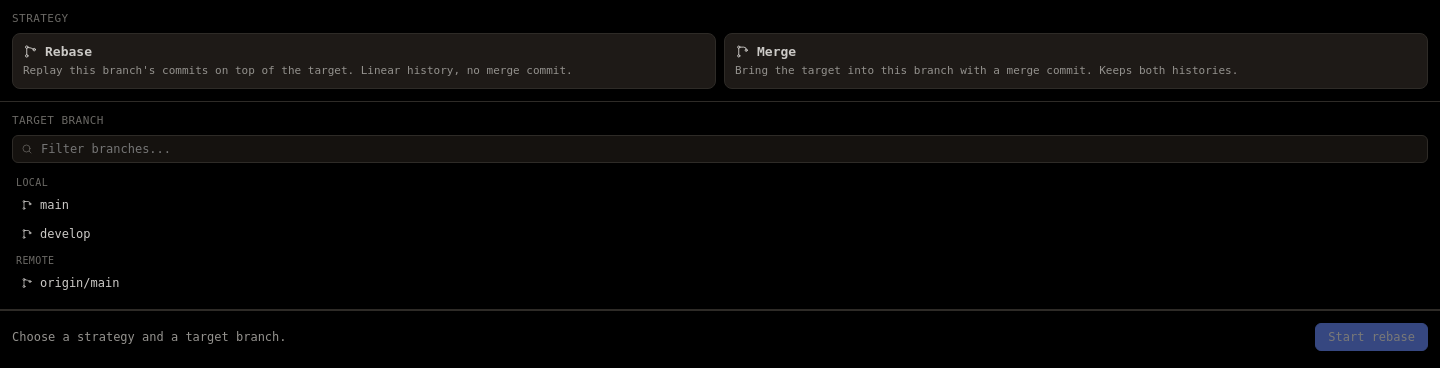
Test: MergeRebaseView › running the operation › clears the choice once the operation succeeded
Click the button with class "mr-card" that starts with "Rebase".
click(364, 61)  # box [12, 33, 716, 89]
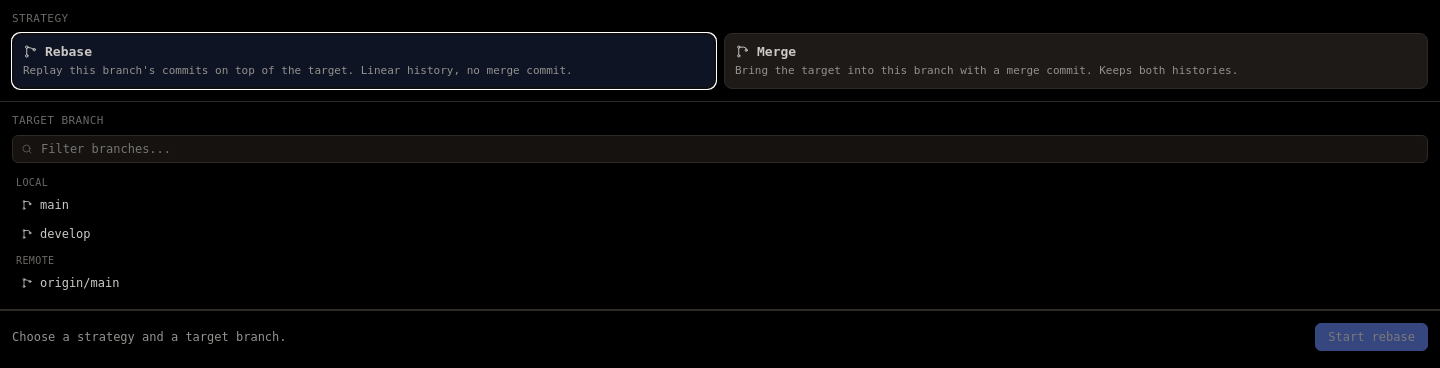
Click the button with class "mr-branch" showing "main".
click(27, 205)  # box [12, 191, 1428, 219]
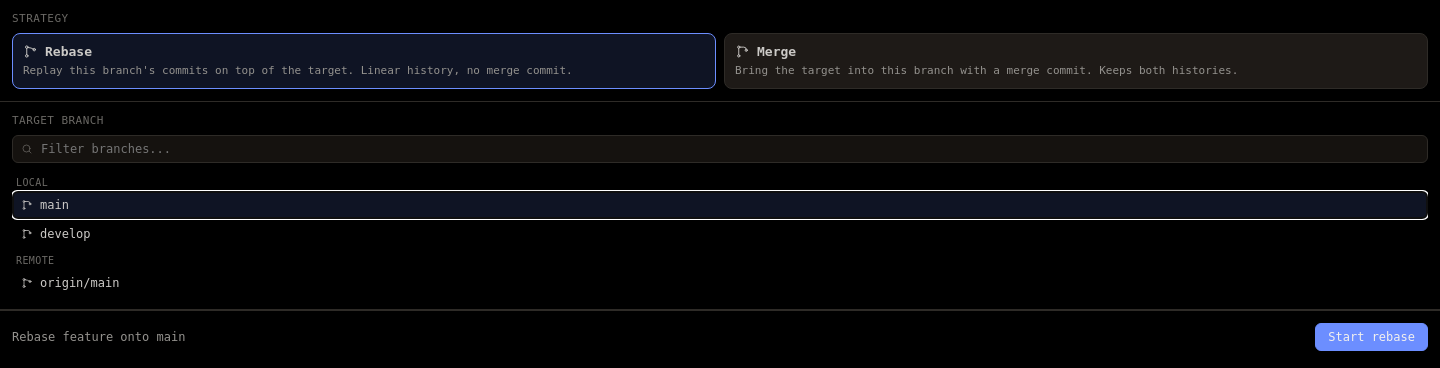
Click the button "Start rebase".
click(1372, 337)  # box [1315, 323, 1428, 351]
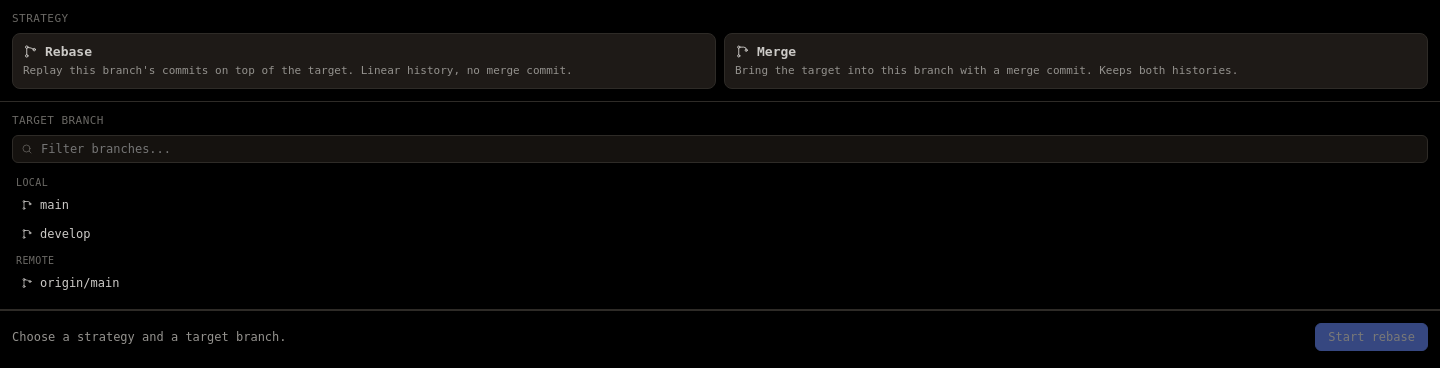
Expected: the button "Start rebase" is disabled, [1315, 323, 1428, 351]
